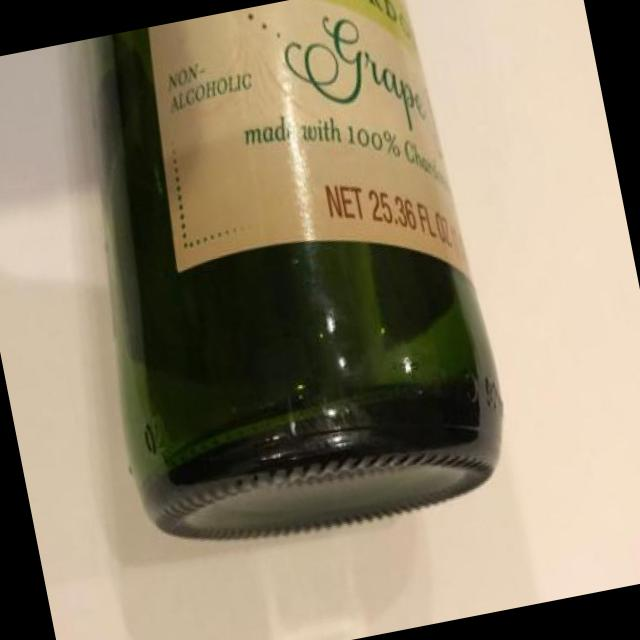BotolKaca: (47, 0, 524, 569)
